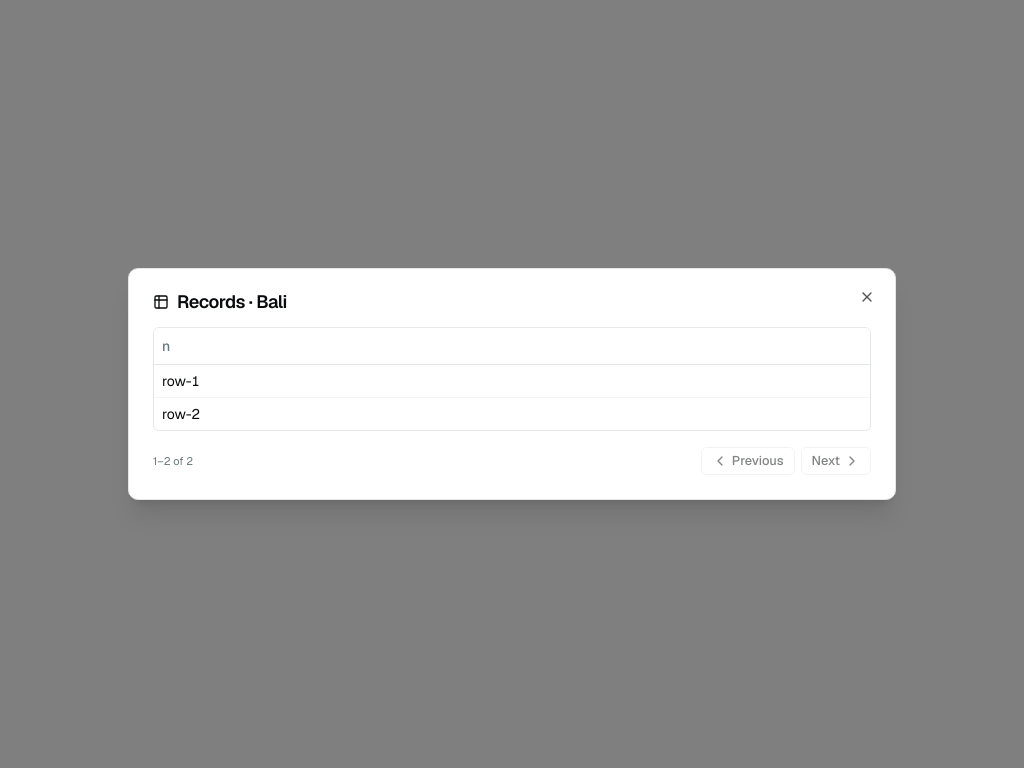
Scenario: RecordsDialog › stops at the first and the last record of the whole list
The width and height of the screenshot is (1024, 768).
Check: the text "1–2 of 2" is shown, box [153,454,193,468]
Click the text "row-1" at {"x": 181, "y": 381}, box [154,364,870,398]
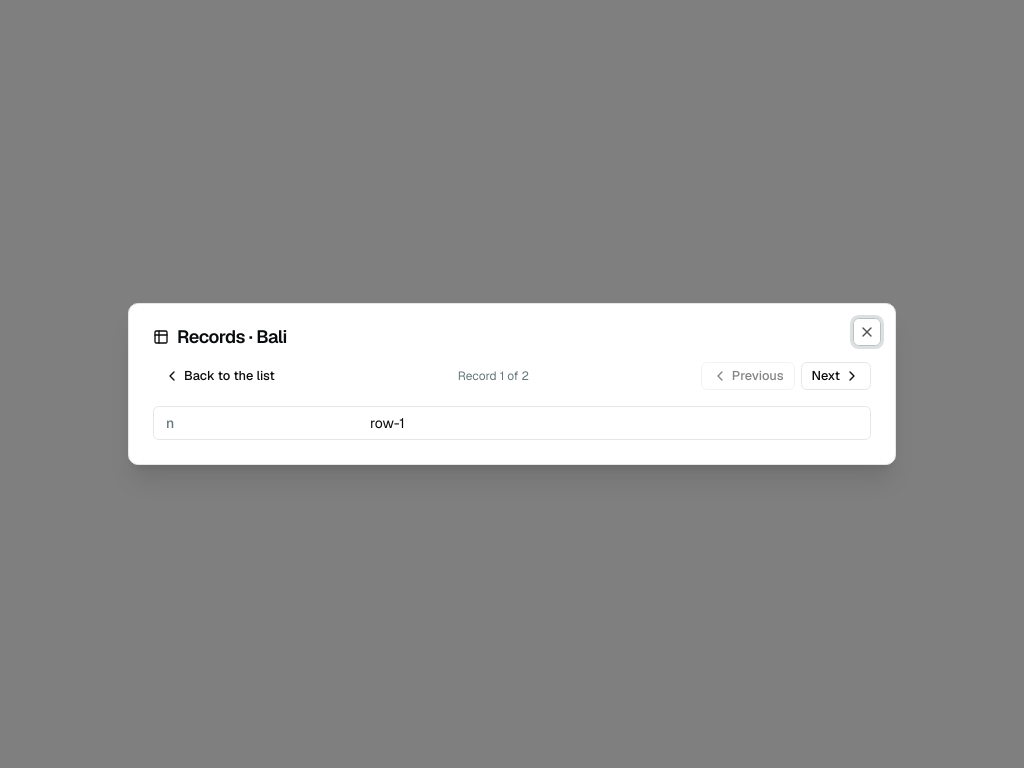
Check: the button "Previous" is disabled, box [701,362,794,390]
Check: the text "Record 1 of 2" is shown, box [458,368,529,384]
Click the button "Next" at {"x": 836, "y": 376}, box [800,362,871,390]
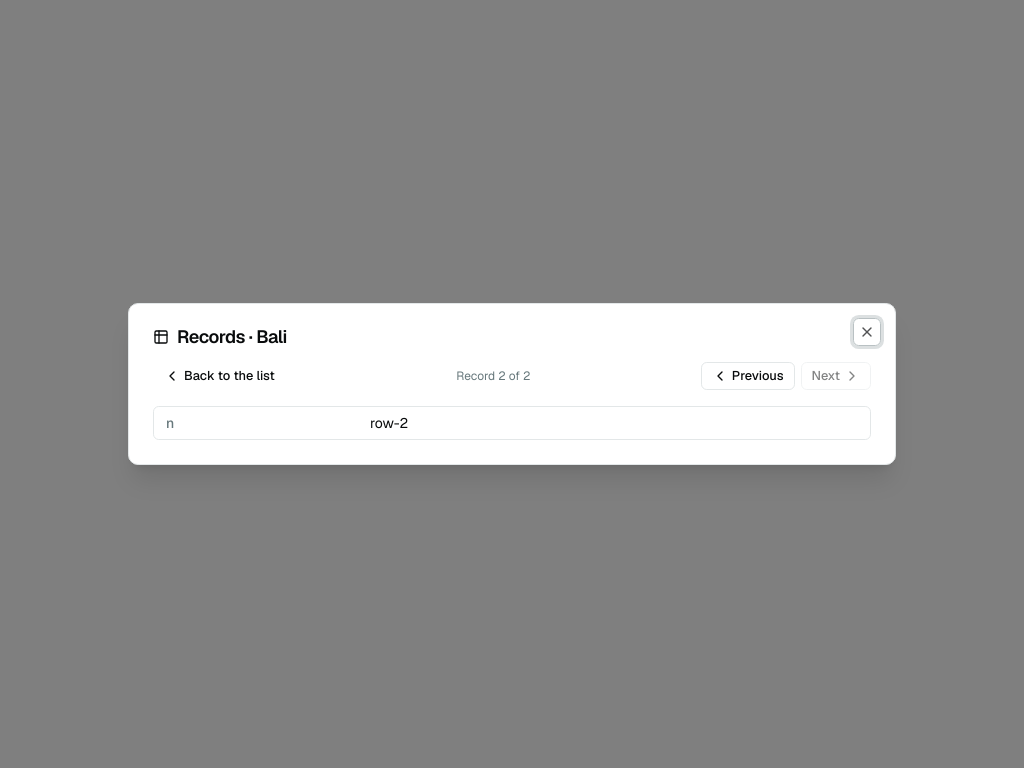
Check: the text "Record 2 of 2" is shown, box [456,368,530,384]
Check: the button "Next" is disabled, box [800,362,871,390]
